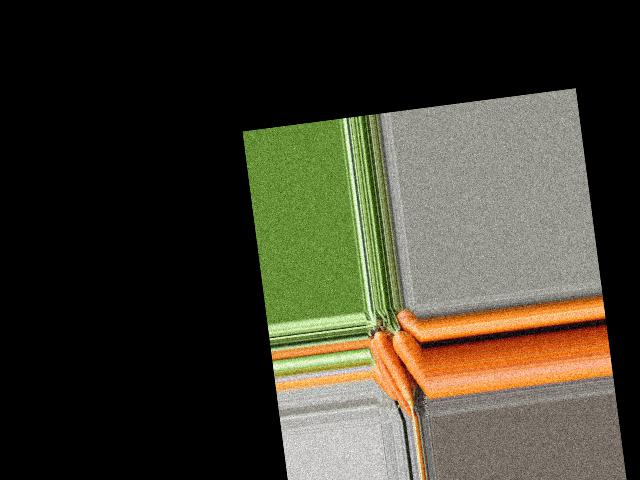carrot: (397, 322, 423, 352)
